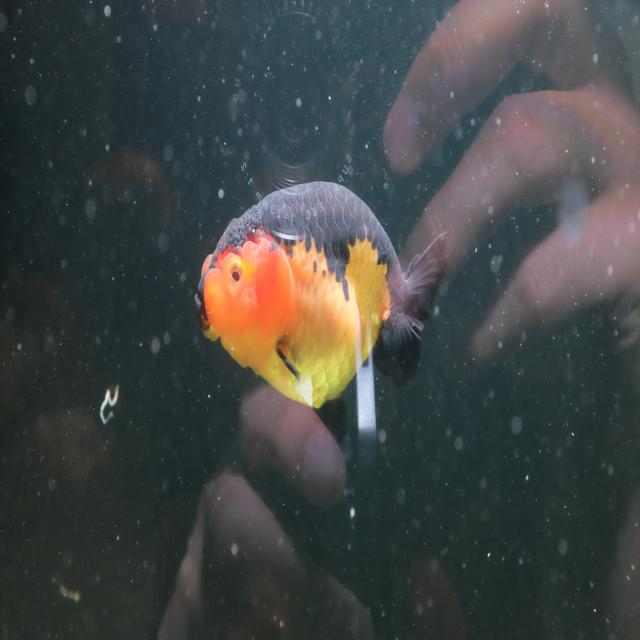Tilapia: (193, 179, 444, 410)
